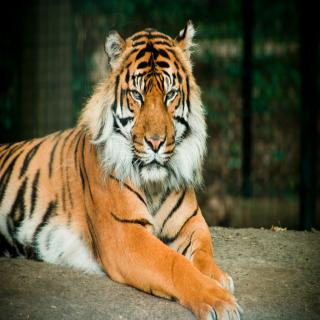Tiger: (0, 17, 243, 320)
